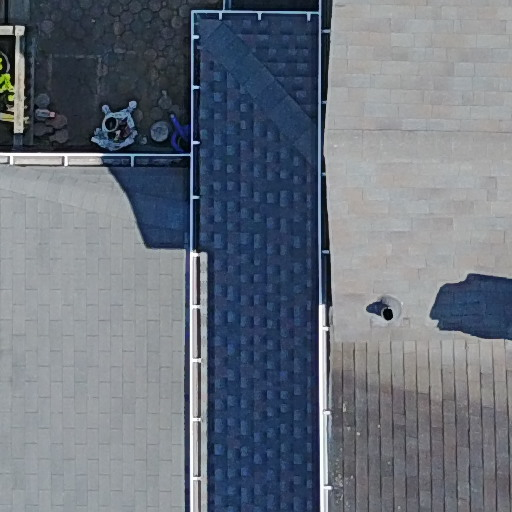container: (148, 116, 177, 144), (97, 116, 127, 137)
